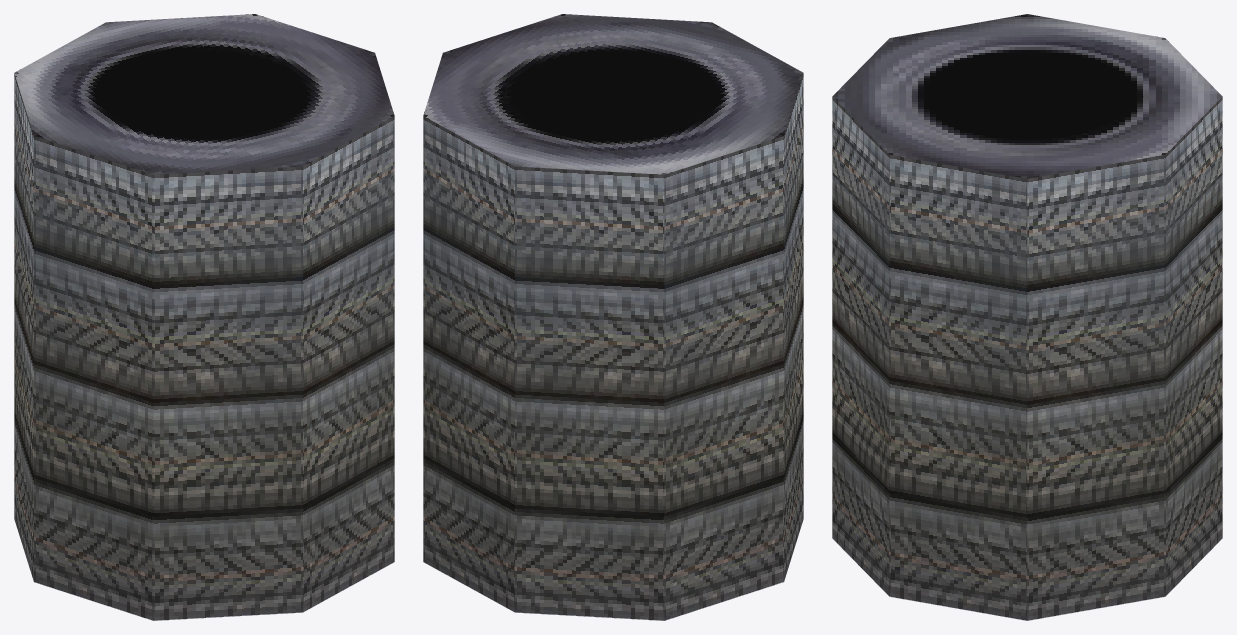
File: tire-stack.glb
The picture shows the model from 3 angles, left to right: view 1: azimuth 30°, elevation 25°; view 2: azimuth 150°, elevation 25°; view 3: azimuth 270°, elevation 25°; orthographic projection.
Visible parts, largest first — view 1: Object_2; view 2: Object_2; view 3: Object_2.
Part boxes in pixels (left/top/right/bottom): Object_2: left=14, top=14, right=394, bottom=620; Object_2: left=423, top=14, right=803, bottom=620; Object_2: left=832, top=14, right=1222, bottom=620.
Bounding box in the file's own units: 2.4 × 3 × 2.4.
Materials: 1 (1 with a texture image).
